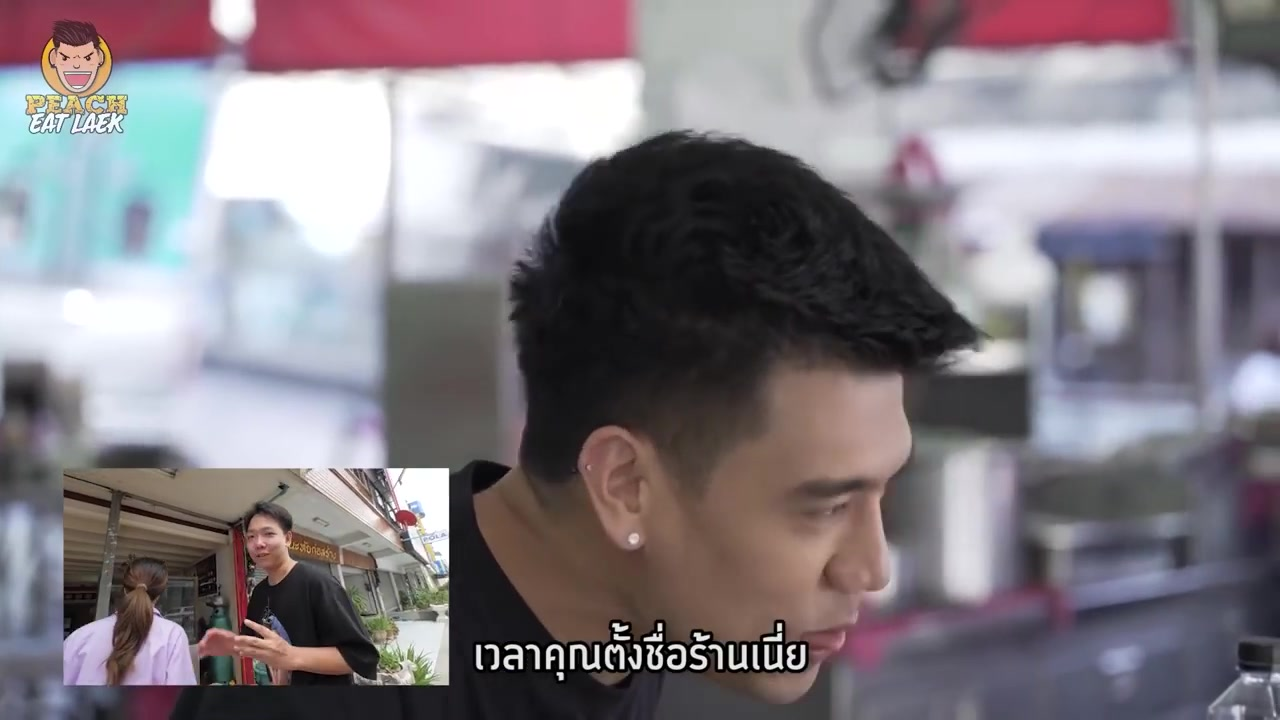text-label: (469, 617, 813, 681)
